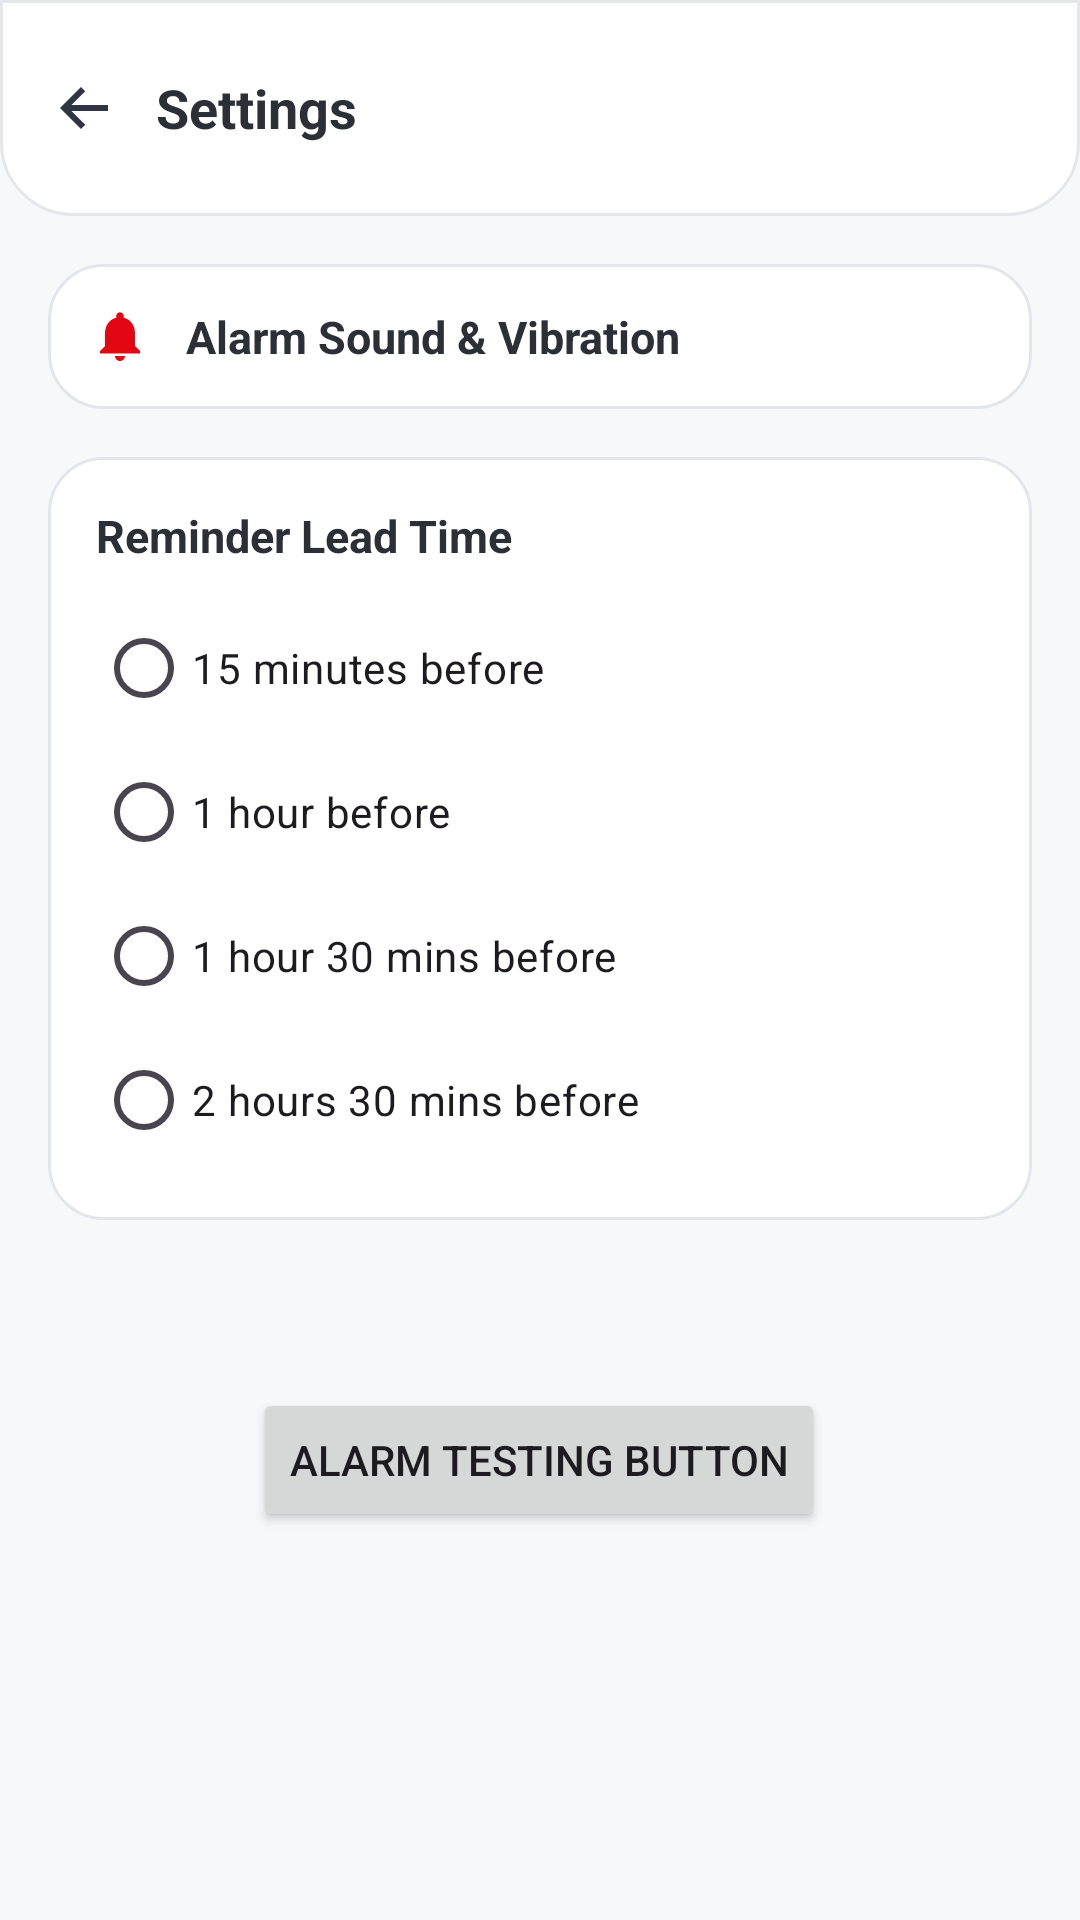

Named icons in this screenshot (1080px x 1920px) and their centers, [x,y]:
Back: [84,108]
